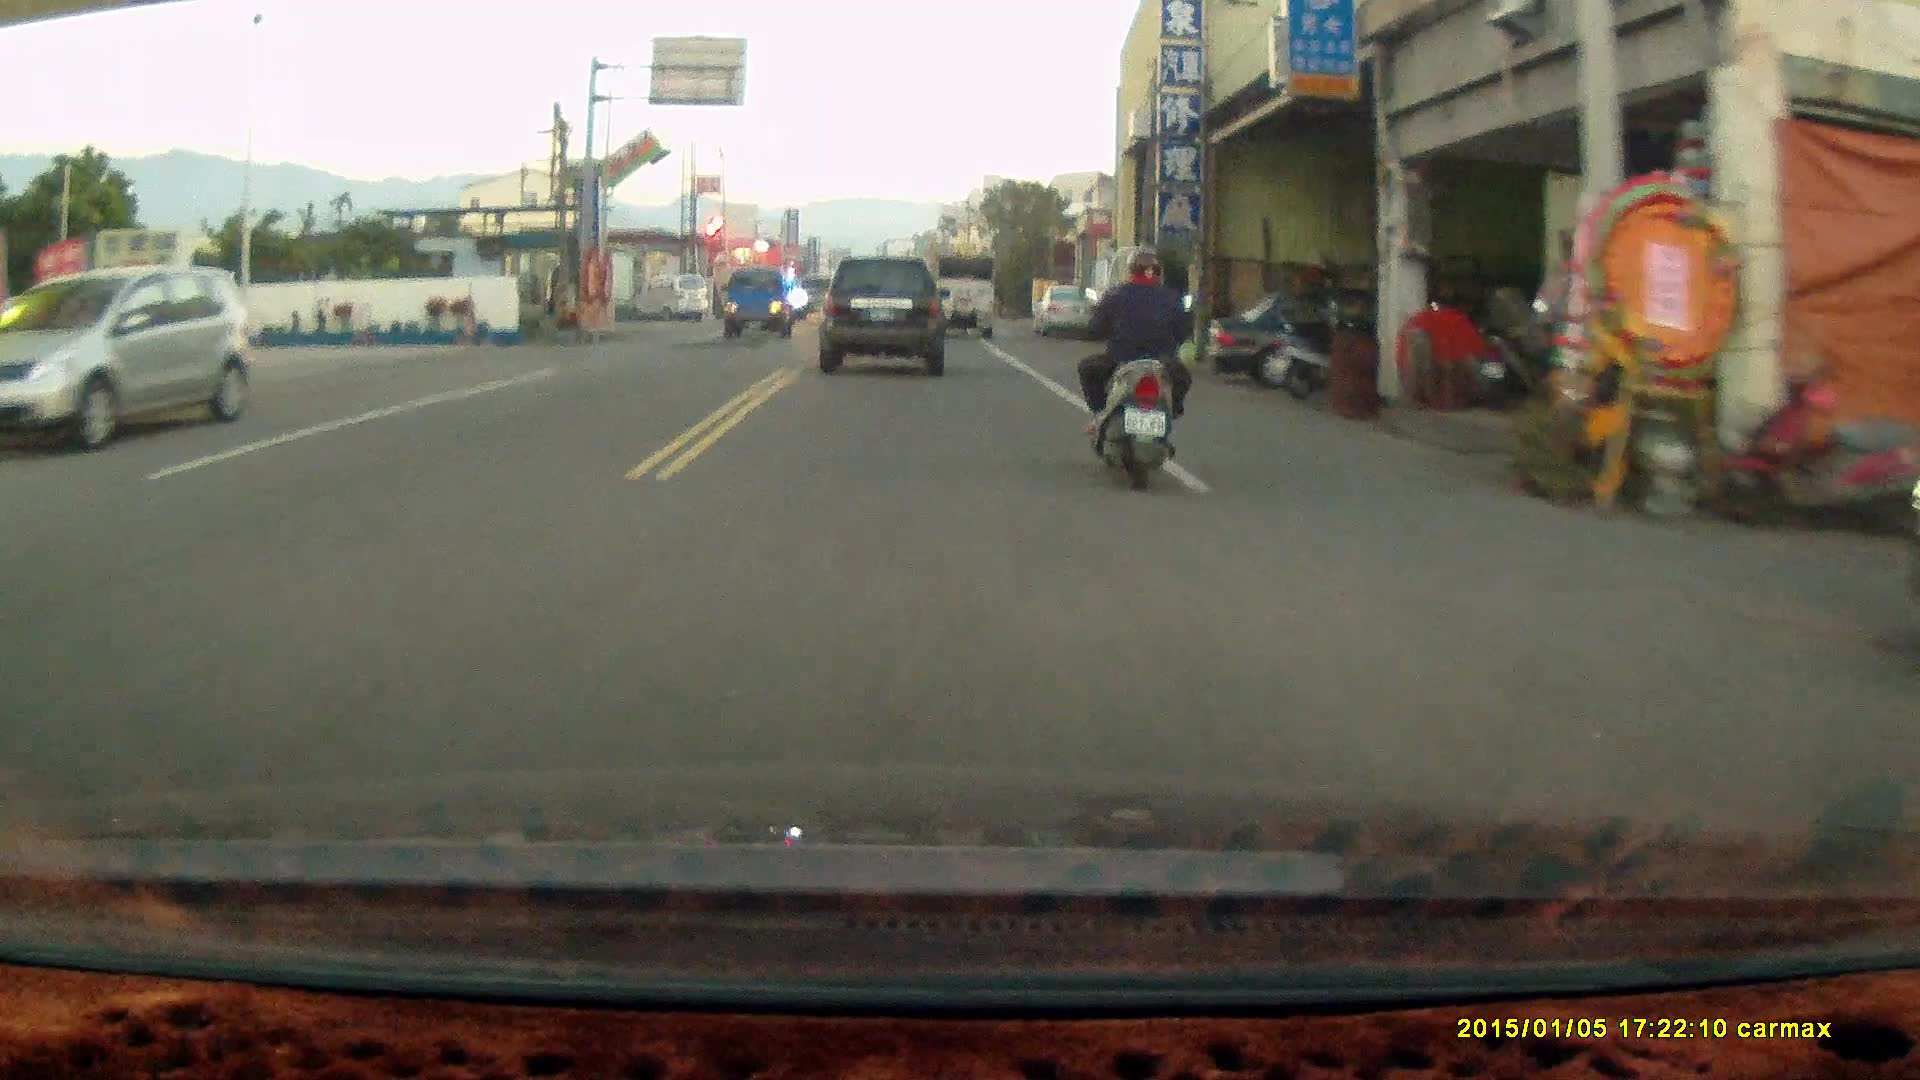rider: (1079, 245, 1194, 489)
vehicle: (1, 268, 257, 449), (1201, 287, 1456, 396), (819, 255, 947, 378), (724, 269, 803, 345), (928, 256, 999, 340), (629, 277, 714, 326), (1035, 287, 1098, 338)
